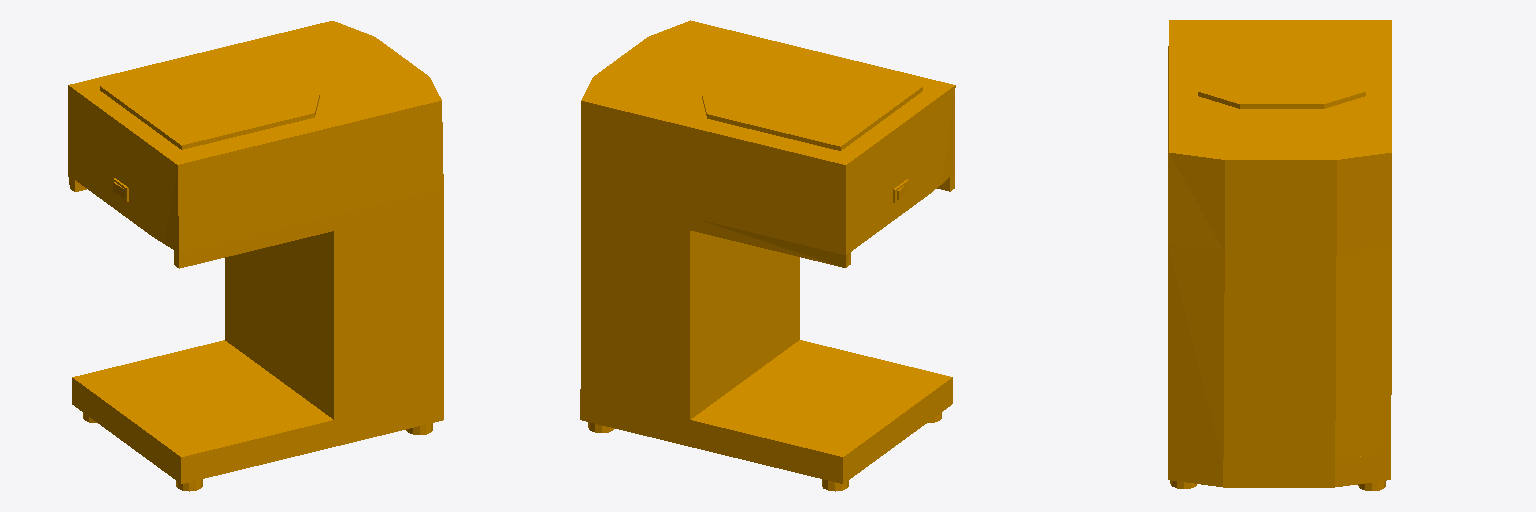
robot.urdf — coffee_maker:
<?xml version="1.0"?>
<robot name="coffee_maker">
  <link name="object">
    <visual>
      <origin xyz="0 0 0" rpy="1.57079632679 0 3.14159265"/>
      <geometry>
        <mesh filename="visuals/model.stl" scale="0.2 0.2 0.2"/>
      </geometry>
    </visual>
    <collision>
      <origin xyz="0 0 0" rpy="1.57079632679 0 3.14159265"/>
      <geometry>
        <mesh filename="visuals/model.stl" scale="0.2 0.2 0.2"/>
      </geometry>
    </collision>
    <inertial>
      <mass value="1.0"/>
      <inertia ixx="0.1" ixy="0.0" ixz="0.0" iyy="0.1" iyz="0.0" izz="0.1"/>
    </inertial>
  </link>
</robot>

--- Facts derived from the render (not from the file) ---
3 views of the same robot in one strip: view 1: azimuth 30°, elevation 25°; view 2: azimuth 150°, elevation 25°; view 3: azimuth 270°, elevation 25° (orthographic).
Robot: coffee_maker — 1 links, 0 joints (none); root link object; default pose: every joint at zero.
Visible links, largest first — view 1: object; view 2: object; view 3: object.
Boxes of the visible links, x1=… form: object: x1=68, y1=21, x2=443, y2=491; object: x1=580, y1=20, x2=955, y2=491; object: x1=1168, y1=20, x2=1391, y2=490.
Size in the robot's own frame: 0.2647 by 0.177 by 0.298 metres.
Meshes: 1 distinct files referenced, 1 mesh visuals loaded (1 binary STL).